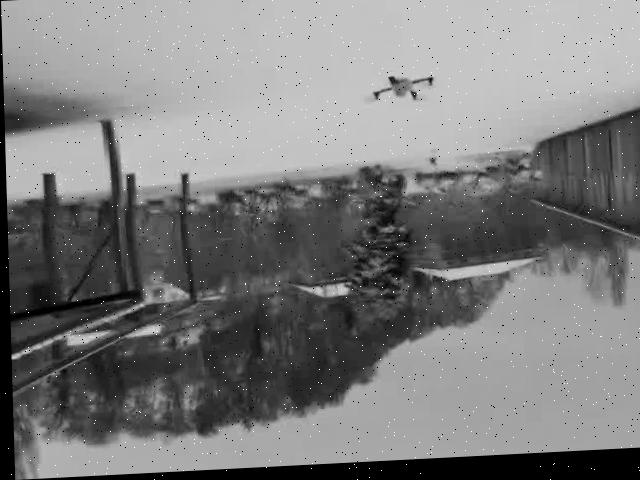drone: (365, 72, 436, 111)
